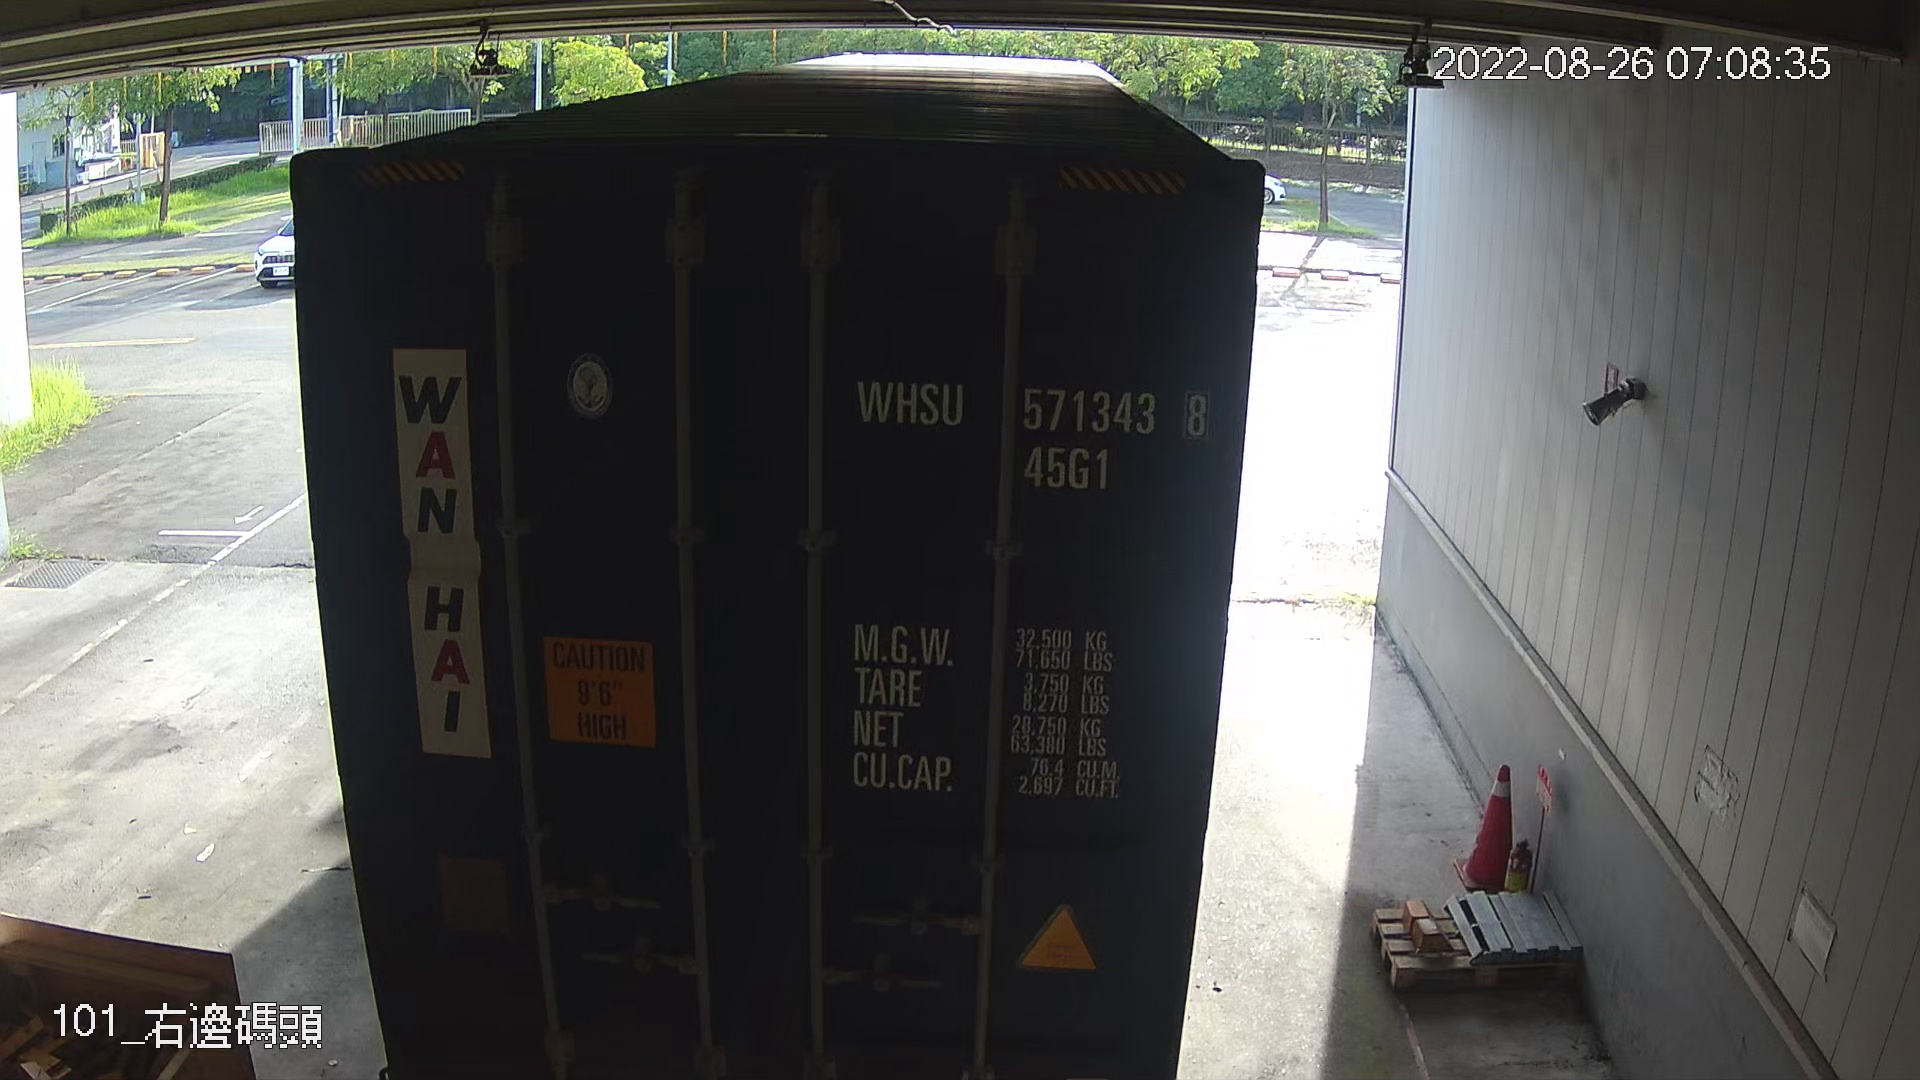container: (843, 353, 1225, 498)
